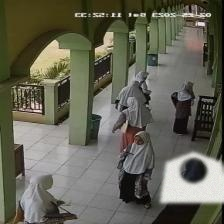Mukena: (159, 152, 224, 202)
